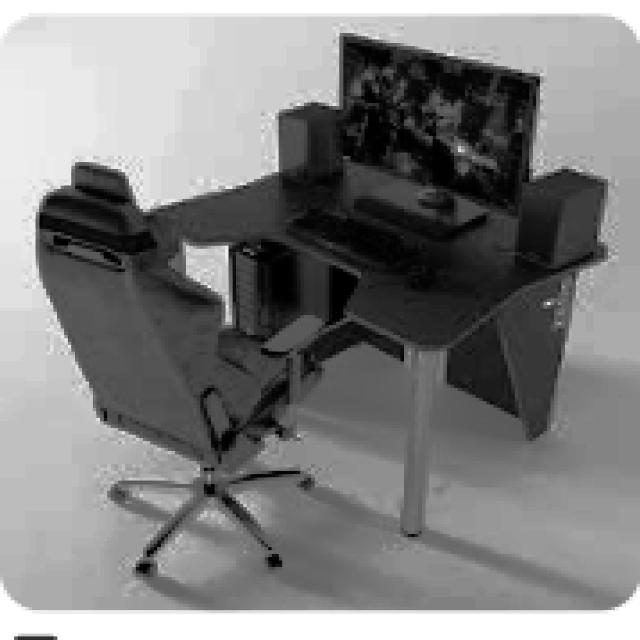table: (143, 153, 608, 537)
